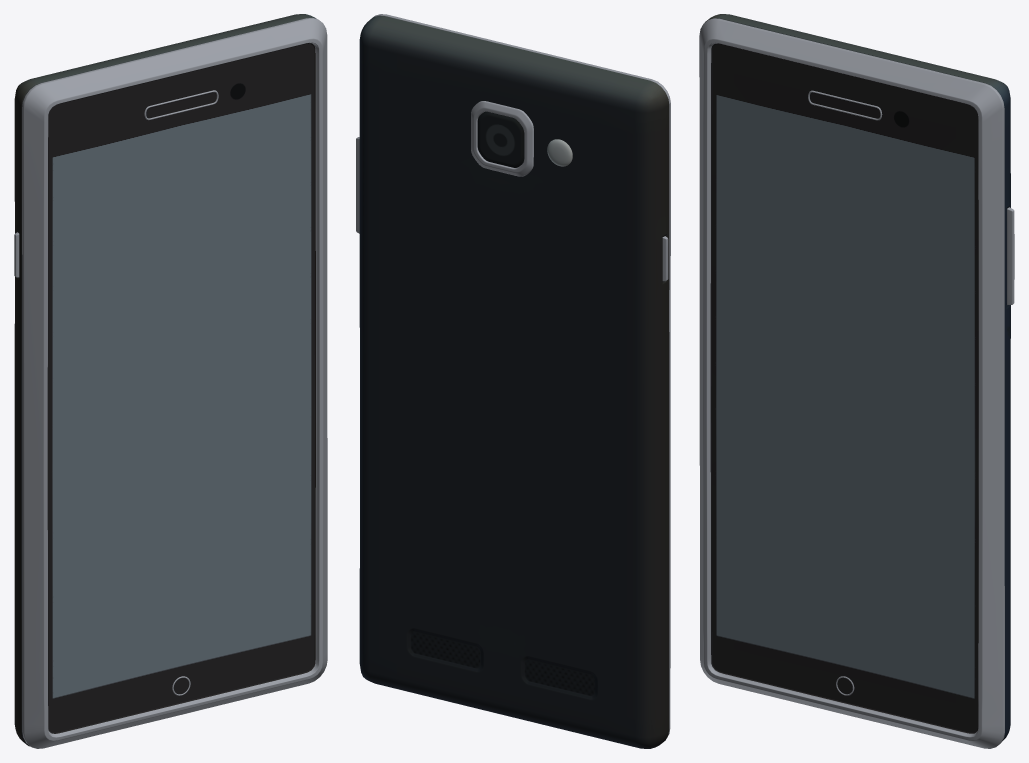
File: finalStep.glb
3 views of the same model, side by side, from view 1: azimuth 30°, elevation 25°; view 2: azimuth 150°, elevation 25°; view 3: azimuth 330°, elevation 25° (orthographic).
Visible parts, largest first — view 1: mobile_phone.1; view 2: mobile_phone.1; view 3: mobile_phone.1.
Boxes of the visible parts, x1=… form: mobile_phone.1: x1=14, y1=14, x2=327, y2=748; mobile_phone.1: x1=356, y1=14, x2=670, y2=748; mobile_phone.1: x1=699, y1=14, x2=1014, y2=748.
Bounding box in the file's own units: 0.0152 × 0.031 × 0.00236.
1 material, 1 textured.
